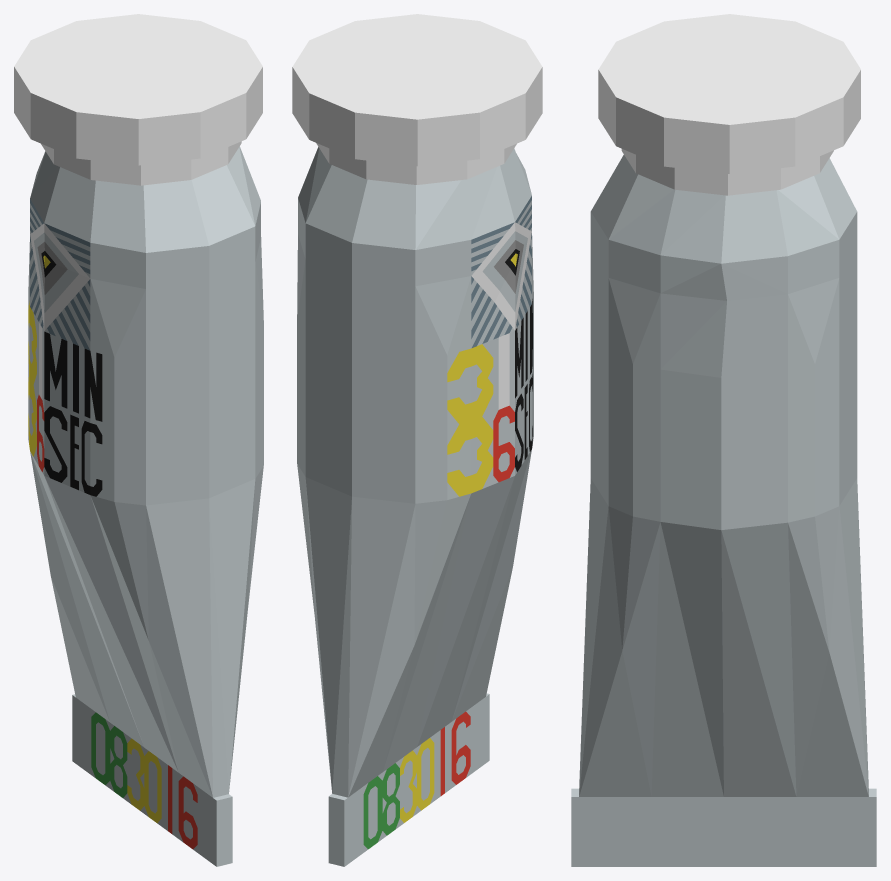
Rendered from scene_EPUUsA2mh7.glb.
3 views of the same model, side by side, from view 1: azimuth 30°, elevation 25°; view 2: azimuth 150°, elevation 25°; view 3: azimuth 270°, elevation 25° (orthographic). The views are drawn at different scales.
Visible parts, largest first — view 1: group969614880, group1985174211, group949488867, group1100678284; view 2: group969614880, group1985174211, group949488867, group1100678284; view 3: group969614880, group1985174211, group949488867, group1100678284.
Part boxes in pixels (bbox=[...]): group969614880: bbox=[28, 146, 263, 797]; group1985174211: bbox=[14, 14, 262, 165]; group949488867: bbox=[72, 694, 232, 866]; group1100678284: bbox=[41, 141, 241, 185]; group969614880: bbox=[297, 147, 533, 797]; group1985174211: bbox=[292, 14, 542, 166]; group949488867: bbox=[328, 693, 489, 866]; group1100678284: bbox=[316, 143, 516, 184]; group969614880: bbox=[579, 155, 868, 796]; group1985174211: bbox=[598, 14, 860, 173]; group949488867: bbox=[571, 788, 876, 866]; group1100678284: bbox=[621, 149, 833, 195].
Bounding box in the file's own units: 0.68 × 2.25 × 0.79.
